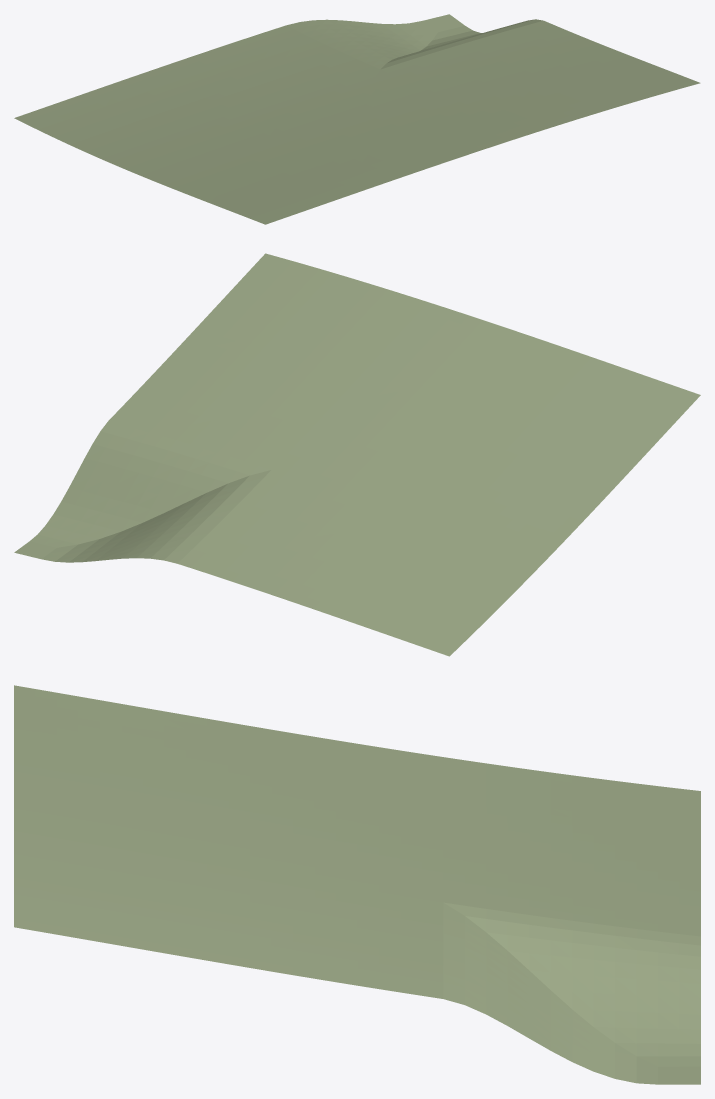
File: valley-1-13.glb
3 renders of one model, top to bottom at view 1: azimuth 30°, elevation 25°; view 2: azimuth 150°, elevation 25°; view 3: azimuth 270°, elevation 25°, orthographic. The views are drawn at different scales.
Visible parts, largest first — view 1: valley-1-13; view 2: valley-1-13; view 3: valley-1-13.
Boxes of the visible parts, x1,y1,x2,y2 form: valley-1-13: [14, 14, 700, 224]; valley-1-13: [14, 253, 700, 656]; valley-1-13: [14, 685, 700, 1084].
Bounding box in the file's own units: 256 × 64.69 × 256.
